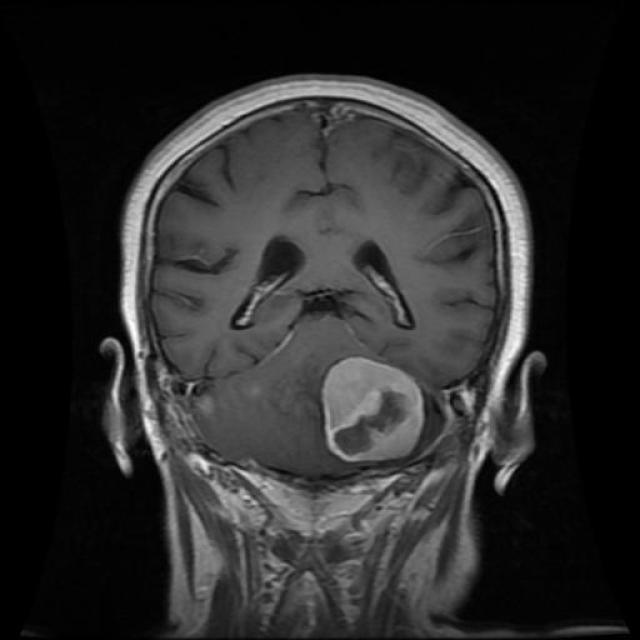meningioma: (321, 358, 425, 461)
